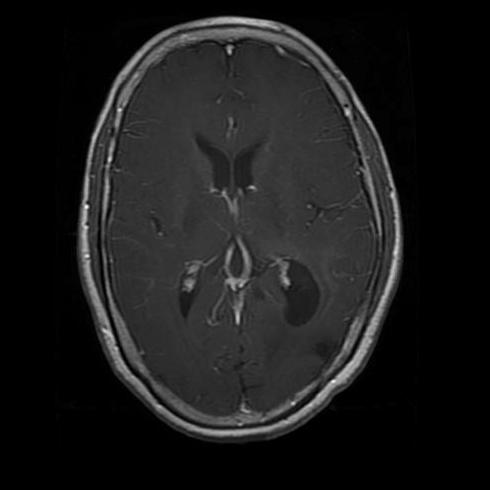Tumour-Glioma: (306, 319, 354, 374)
